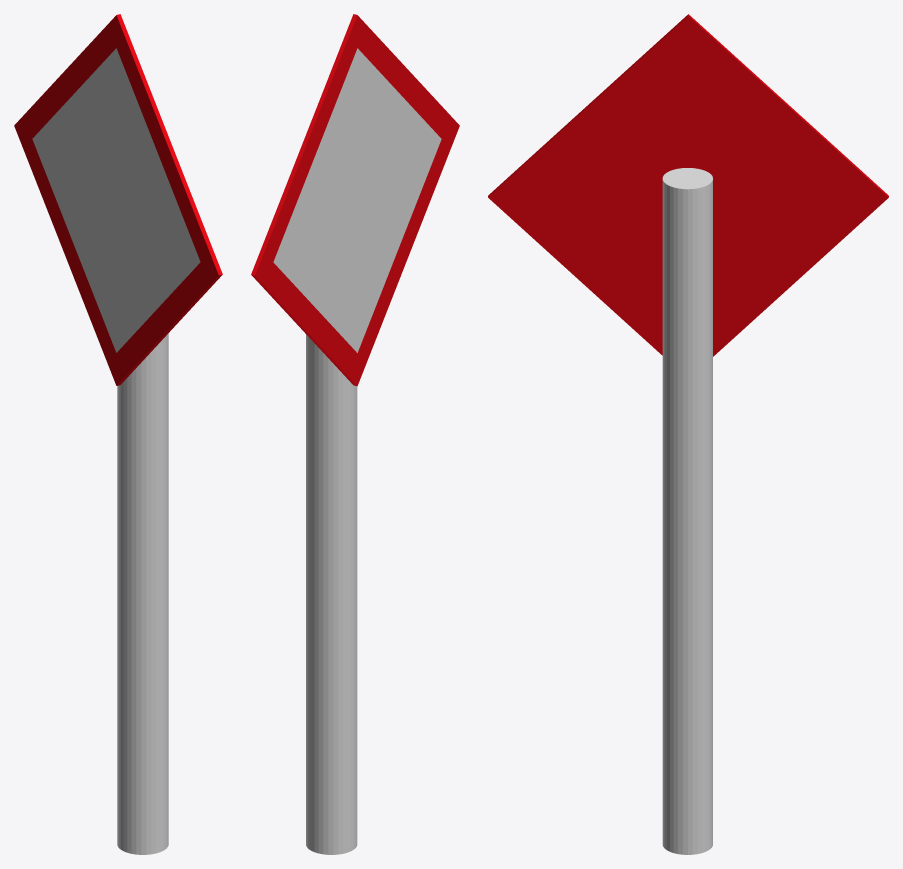
Rendered from Road Sign 3.fbx.
3 views of the same model, side by side, from view 1: azimuth 30°, elevation 25°; view 2: azimuth 150°, elevation 25°; view 3: azimuth 270°, elevation 25° (orthographic). The views are drawn at different scales.
Parts seen in each view (by area): view 1: Cube.004, Cylinder.001; view 2: Cube.004, Cylinder.001; view 3: Cube.004, Cylinder.001.
Boxes of the visible parts, x1,y1,x2,y2 form: Cube.004: (14,14,222,385); Cylinder.001: (117,333,168,854); Cube.004: (251,14,459,386); Cylinder.001: (306,334,357,854); Cube.004: (488,14,888,356); Cylinder.001: (662,168,712,854).
Size of the model in its own units: 26.12 by 429 by 191.
